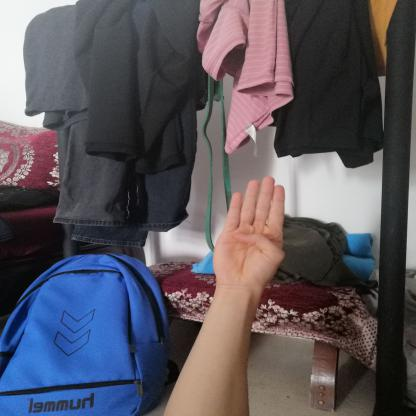KAAF: (200, 170, 297, 294)
